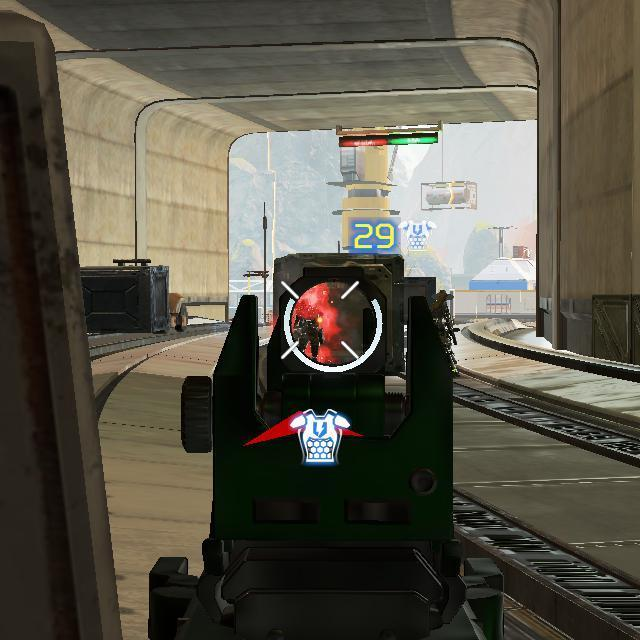avatar: (292, 298, 321, 364)
